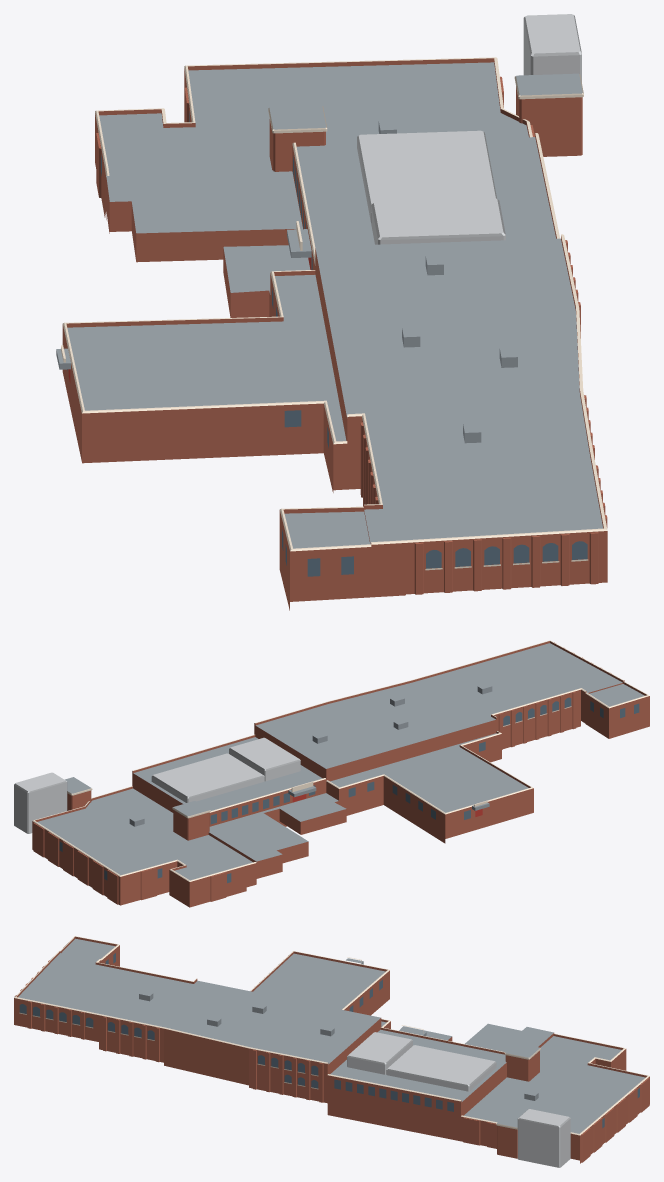
Rendered from fillmore-charlotte.glb.
3 renders of one model, top to bottom at view 1: azimuth 30°, elevation 25°; view 2: azimuth 150°, elevation 25°; view 3: azimuth 270°, elevation 25°, orthographic. The views are drawn at different scales.
Visible parts, largest first — view 1: The Fillmore Charlotte; view 2: The Fillmore Charlotte; view 3: The Fillmore Charlotte.
Part boxes in pixels (x1,y1,x2,y2): The Fillmore Charlotte: [56, 14, 607, 610]; The Fillmore Charlotte: [14, 640, 649, 907]; The Fillmore Charlotte: [14, 936, 649, 1167].
Bounding box in the file's own units: 118 × 17.03 × 168.
